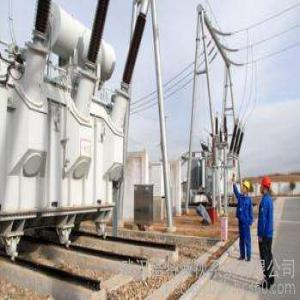red: (260, 175, 272, 197)
yellow: (241, 179, 252, 196)
